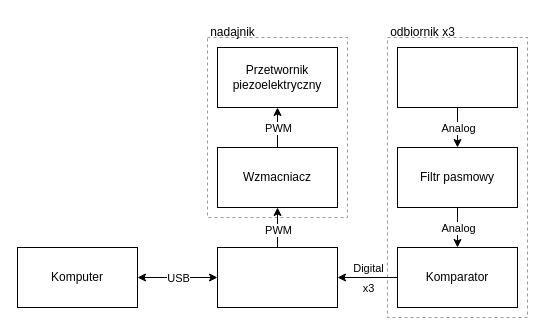
The diagram is 545 pixels wide and 335 high, and some of its shapes have lost their labels. The shapes that lost their labels are listed below. From the top down, each one's centre as x and y in pixels, then its label:
pixel 457 77: Mikrofon MEMS
pixel 277 277: NUCLEO L476
